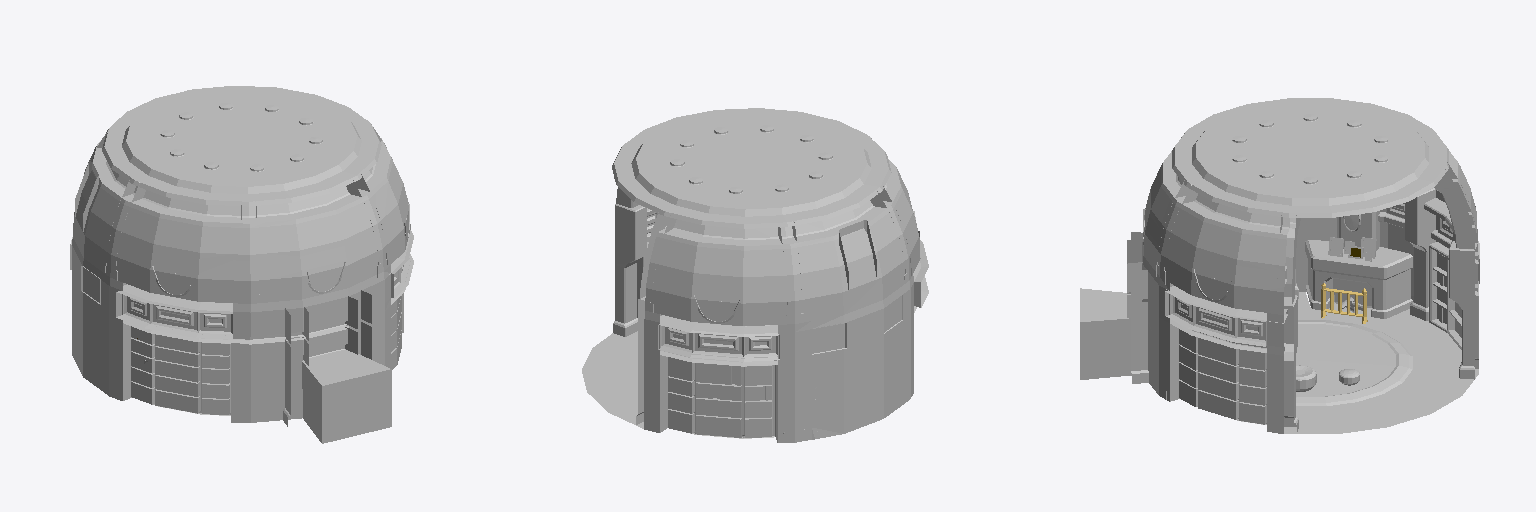
The picture shows the model from 3 angles: view 1: azimuth 30°, elevation 25°; view 2: azimuth 150°, elevation 25°; view 3: azimuth 270°, elevation 25°; orthographic projection.
Visible parts, largest first — view 1: Library_Walls_L.Walls, Library_Roof_L.Roof, Wall_Frames_WallFrames, Bookshelf_2_Bookshelf.002, Entrance_Exit_Entrance_Exit, Pillars, Bookshelf_1_Bookshelf.001, Roof_Lamps_RoofLamps; view 2: Library_Walls_L.Walls, Library_Roof_L.Roof, Wall_Frames_WallFrames, Bookshelf_3_Bookshelf.003, Pillars, Library_Floor_L.Floor, Roof_Lamps_RoofLamps; view 3: Library_Roof_L.Roof, Library_Walls_L.Walls, Wall_Frames_WallFrames, Pillars, Library_Floor_L.Floor, Carpet, Bookshelf_1_Bookshelf.001, Fireplace, Entrance_Exit_Entrance_Exit, Bookshelf_3_Bookshelf.003, Picture_Frames__Pictures, Fireplace_Fence_ID295 (+1 smaller).
Part boxes in pixels (x1,y1,x2,y2): Library_Walls_L.Walls: (72,146,410,422); Library_Roof_L.Roof: (102,86,381,206); Wall_Frames_WallFrames: (70,90,413,344); Bookshelf_2_Bookshelf.002: (123,323,230,415); Entrance_Exit_Entrance_Exit: (302,329,391,443); Pillars: (105,259,387,426); Bookshelf_1_Bookshelf.001: (391,293,403,369); Roof_Lamps_RoofLamps: (161,103,322,169); Library_Walls_L.Walls: (644,167,920,442); Library_Roof_L.Roof: (612,108,891,228); Wall_Frames_WallFrames: (616,108,928,366); Bookshelf_3_Bookshelf.003: (660,355,777,442); Pillars: (613,204,911,433); Library_Floor_L.Floor: (582,331,643,428); Roof_Lamps_RoofLamps: (671,125,832,191); Library_Roof_L.Roof: (1172,98,1448,217); Library_Walls_L.Walls: (1142,163,1478,433); Wall_Frames_WallFrames: (1157,116,1479,353); Pillars: (1127,188,1478,431); Library_Floor_L.Floor: (1284,292,1478,433); Carpet: (1296,320,1412,405); Bookshelf_1_Bookshelf.001: (1170,324,1266,424); Fireplace: (1305,211,1412,318); Entrance_Exit_Entrance_Exit: (1080,288,1131,379); Bookshelf_3_Bookshelf.003: (1429,242,1478,358); Picture_Frames__Pictures: (1328,237,1376,261); Fireplace_Fence_ID295: (1321,283,1367,323).
Bounding box in the file's own units: 17.91 × 12.66 × 21.12.
Materials: 22 (2 with a texture image).